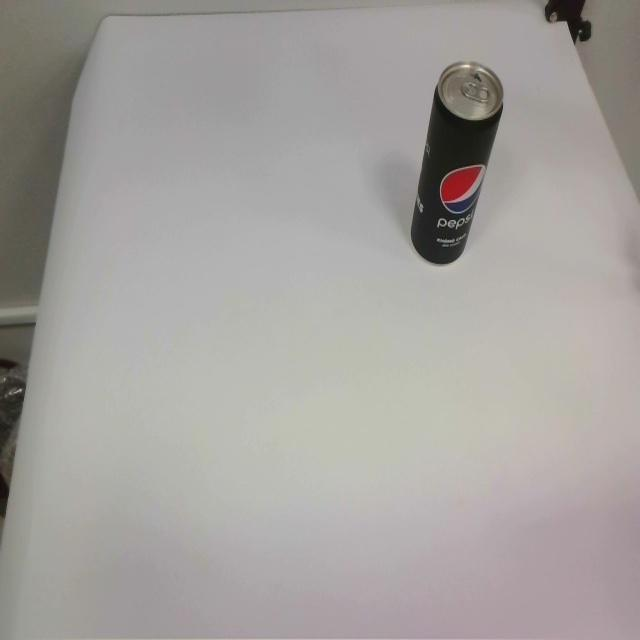debris: (410, 61, 504, 265)
